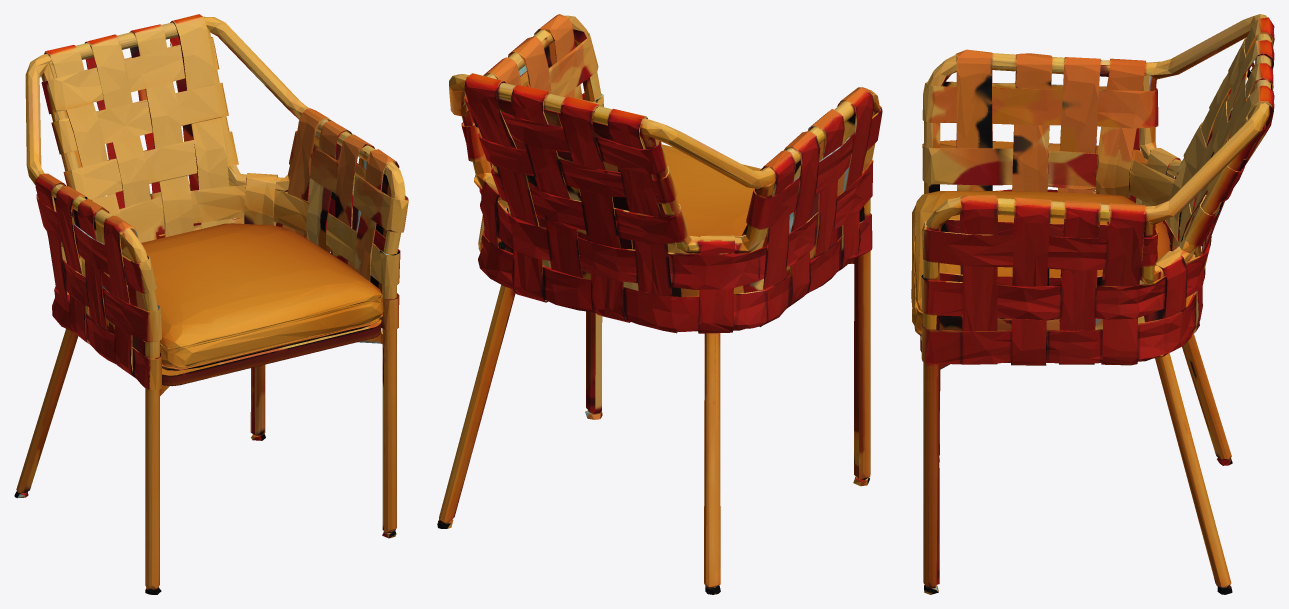
Rendered from edited_mesh.glb.
3 views of the same model, side by side, from view 1: azimuth 30°, elevation 25°; view 2: azimuth 150°, elevation 25°; view 3: azimuth 270°, elevation 25° (orthographic). The views are drawn at different scales.
Parts seen in each view (by area): view 1: solid_001_wire; view 2: solid_001_wire; view 3: solid_001_wire.
Part boxes in pixels (box(x1,y1,x2,y2)): solid_001_wire: box(14, 14, 408, 594); solid_001_wire: box(437, 14, 882, 594); solid_001_wire: box(911, 14, 1274, 594).
Bounding box in the file's own units: 1.04 × 1.48 × 1.04.
Materials: 1 (1 with a texture image).
